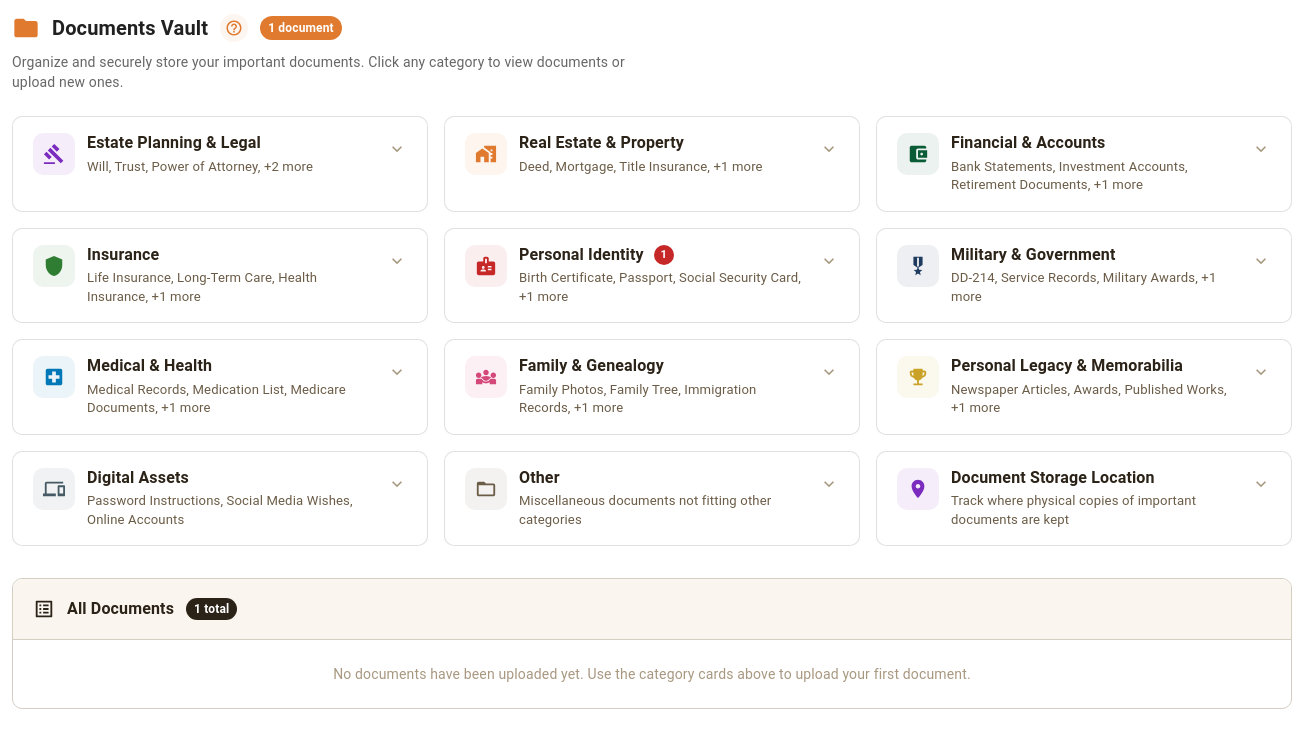
Scenario: DocumentsVaultSection › Document List › highly sensitive document shows lock icon
Click the heading "Personal Identity".
click(581, 255)  # box left=519, top=245, right=644, bottom=265
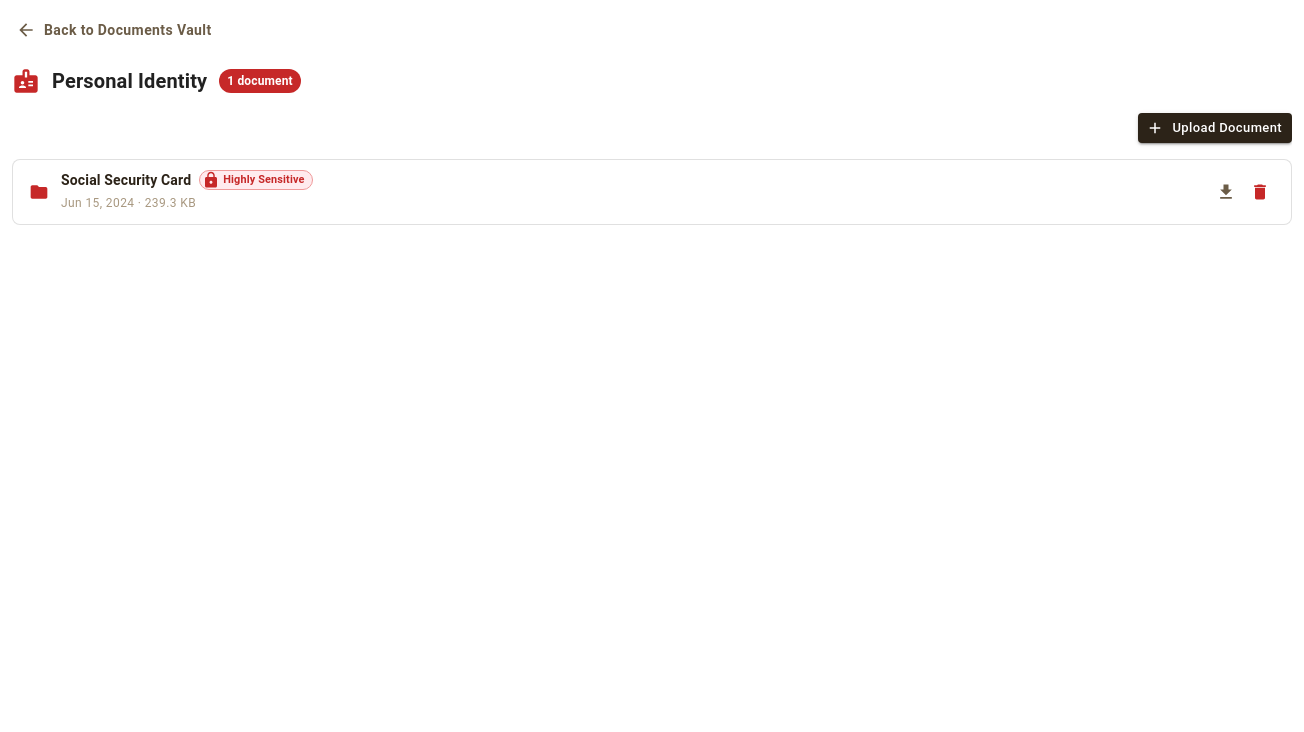
Expected: the text "Social Security Card" is shown, left=61, top=170, right=191, bottom=190
Expected: the text "Highly Sensitive" is shown, left=216, top=172, right=312, bottom=188
